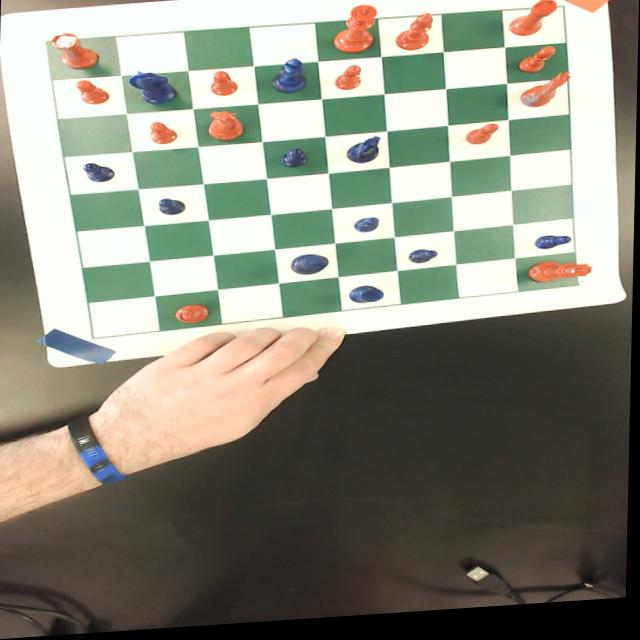B: (269, 62, 308, 98)
K: (290, 256, 330, 281)
N: (127, 72, 178, 108), (347, 141, 381, 169)
P: (82, 163, 116, 185), (279, 151, 309, 172), (534, 242, 573, 258), (157, 199, 187, 219), (408, 255, 440, 270), (354, 221, 380, 239)
R: (349, 290, 384, 310)
b: (393, 19, 434, 57), (173, 306, 211, 328)
k: (331, 9, 376, 60)
n: (516, 78, 573, 116), (205, 112, 245, 146)
p: (516, 53, 556, 82), (74, 80, 110, 108), (208, 72, 239, 100), (146, 122, 179, 148), (333, 69, 363, 96), (465, 130, 499, 151)
q: (527, 267, 593, 291)
r: (46, 32, 101, 73), (507, 6, 558, 45)
